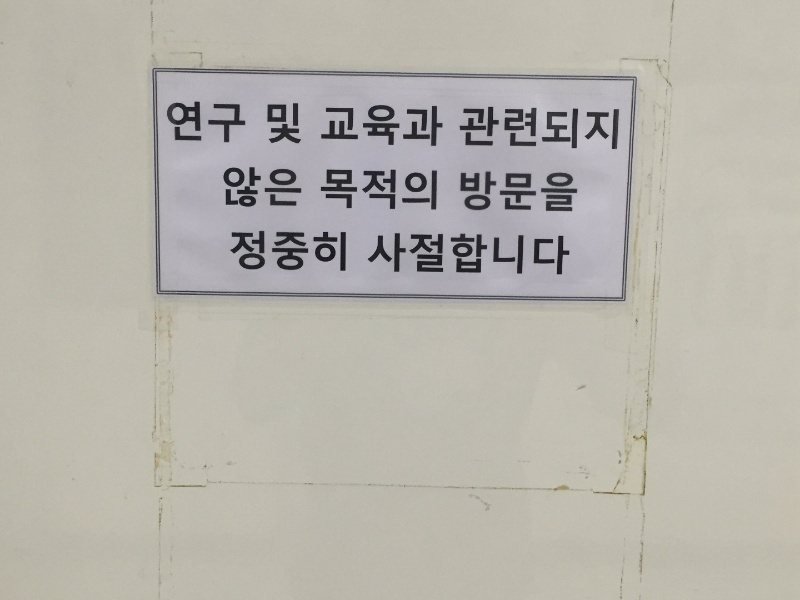text: (465, 106, 480, 151), (481, 106, 496, 151), (497, 106, 512, 151), (513, 106, 528, 151), (529, 106, 544, 151), (545, 106, 560, 151), (561, 106, 576, 151), (577, 106, 592, 151), (593, 106, 608, 151), (369, 232, 384, 277), (385, 232, 400, 277), (401, 232, 416, 277), (417, 232, 432, 277), (433, 232, 448, 277), (449, 232, 464, 277), (465, 232, 480, 277), (481, 232, 496, 277), (497, 232, 512, 277), (513, 232, 528, 277), (529, 232, 544, 277), (545, 232, 560, 277), (177, 101, 192, 144), (193, 101, 208, 144), (209, 101, 224, 144), (225, 101, 240, 144), (321, 168, 336, 211), (337, 168, 352, 211), (353, 168, 368, 211), (369, 168, 384, 211), (385, 168, 400, 211), (401, 168, 416, 211), (417, 168, 432, 211), (273, 103, 288, 145), (321, 106, 336, 148), (337, 106, 352, 148), (353, 106, 368, 148), (369, 106, 384, 148), (385, 106, 400, 148), (401, 106, 416, 148), (417, 106, 432, 148), (225, 166, 240, 208), (241, 166, 256, 208), (257, 166, 272, 208), (273, 166, 288, 208), (465, 171, 480, 213), (481, 171, 496, 213), (497, 171, 512, 213), (513, 171, 528, 213), (529, 171, 544, 213), (545, 171, 560, 213), (561, 171, 576, 213), (241, 231, 256, 273), (257, 231, 272, 273), (273, 231, 288, 273), (289, 231, 304, 273), (305, 231, 320, 273), (321, 231, 336, 273), (289, 103, 303, 145), (289, 166, 303, 208), (609, 106, 620, 151), (561, 232, 572, 277), (433, 106, 444, 148), (166, 101, 176, 144), (230, 231, 240, 273), (337, 231, 347, 273), (241, 101, 247, 144), (459, 106, 464, 151), (433, 168, 438, 211), (267, 103, 272, 145), (460, 171, 464, 213), (577, 171, 579, 213), (223, 166, 224, 208)
